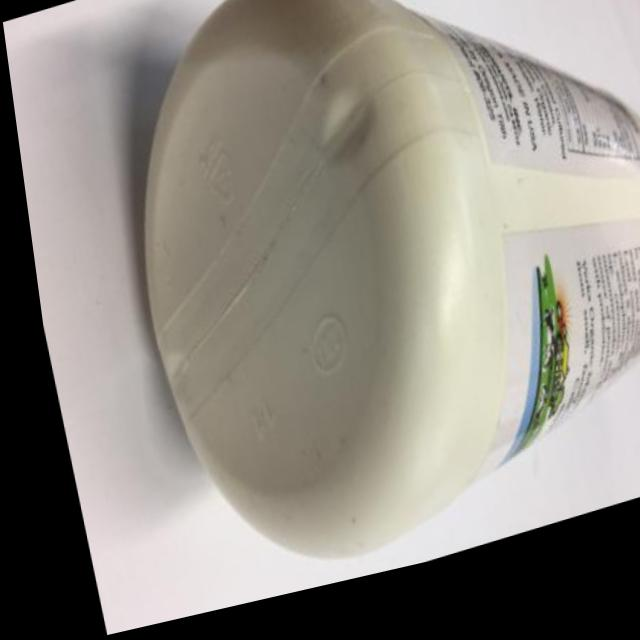plastic: (72, 0, 640, 627)
